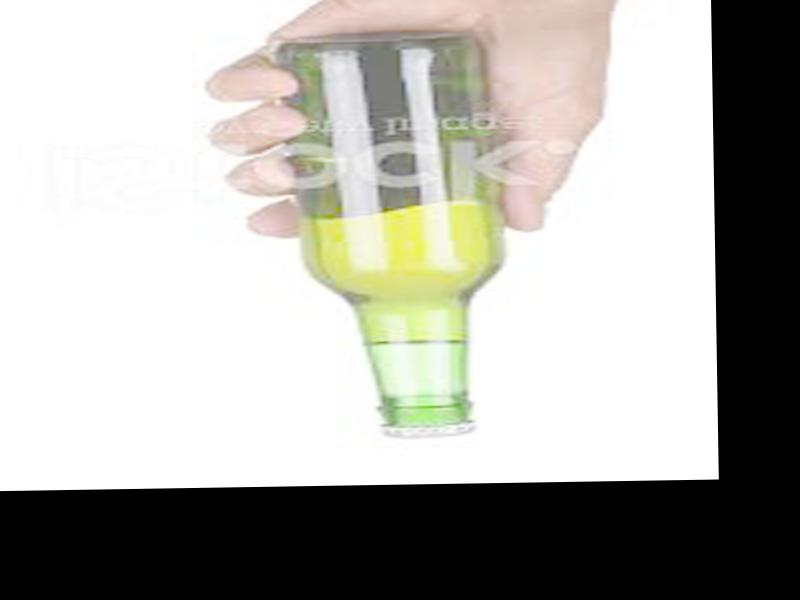Beer: (288, 32, 513, 440)
